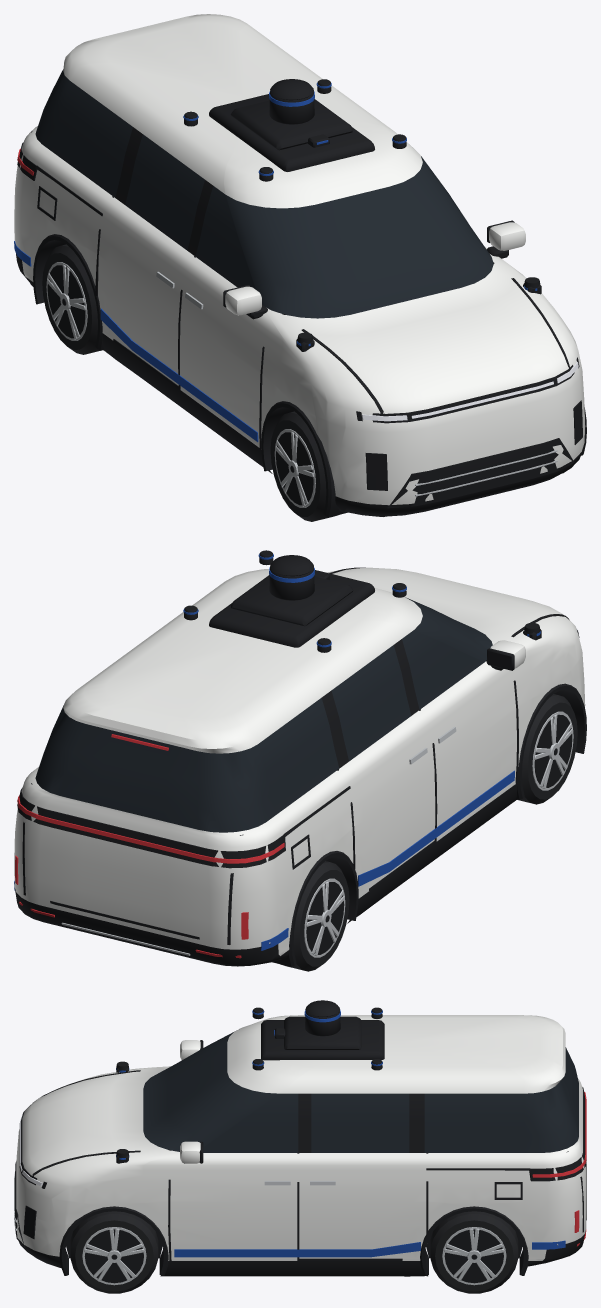
The model's file is apollo.glb.
The picture shows the model from 3 angles, top to bottom: view 1: azimuth 30°, elevation 25°; view 2: azimuth 150°, elevation 25°; view 3: azimuth 270°, elevation 25°; orthographic projection. The views are drawn at different scales.
Parts seen in each view (by area): view 1: body, wheel_FR, wheel_RR, lidar; view 2: body, wheel_RR, wheel_FR, lidar; view 3: body, wheel_RL, wheel_FL, lidar.
Part boxes in pixels (<box>): body: <box>14,14,586,517</box>; wheel_FR: <box>270,411,338,521</box>; wheel_RR: <box>42,244,102,354</box>; lidar: <box>269,79,314,124</box>; body: <box>14,550,586,966</box>; wheel_RR: <box>280,861,349,971</box>; wheel_FR: <box>517,694,577,804</box>; lidar: <box>269,555,314,600</box>; body: <box>14,1007,586,1276</box>; wheel_RL: <box>430,1211,518,1293</box>; wheel_FL: <box>70,1211,158,1293</box>; lidar: <box>304,1000,340,1036</box>.
Size of the model in its own units: 2.06 by 2.07 by 4.44.
